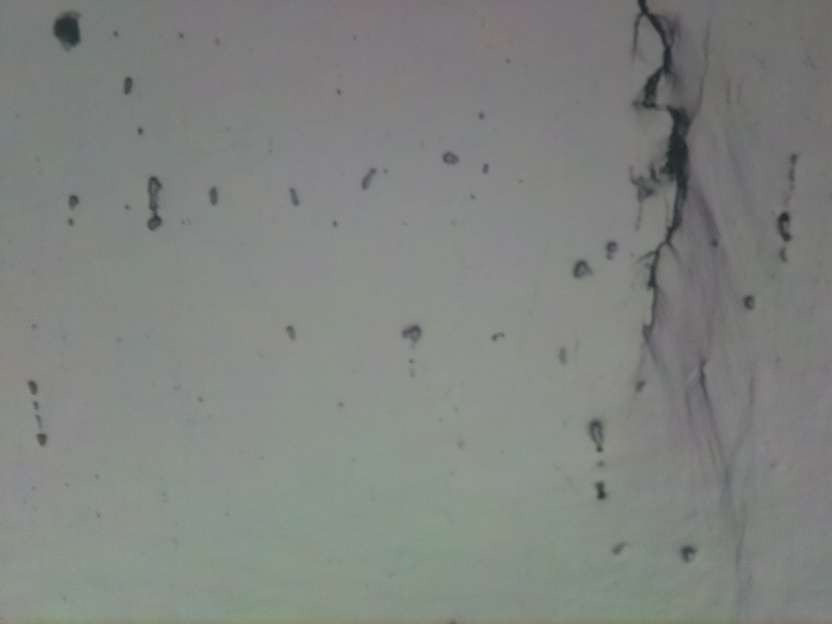crack: (635, 0, 695, 333)
